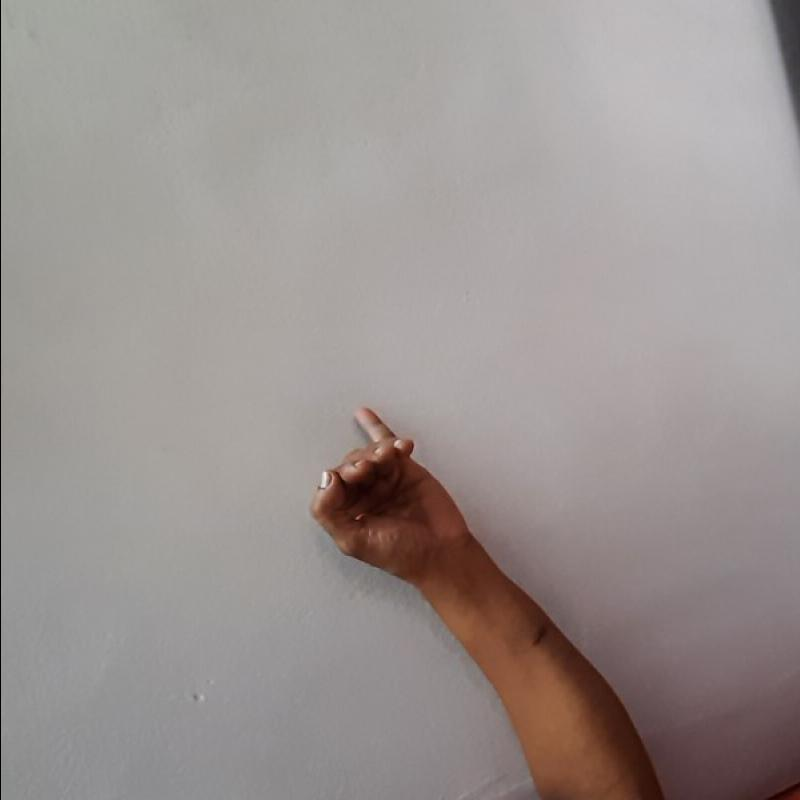Kartharee Mukham: (295, 387, 468, 572)
